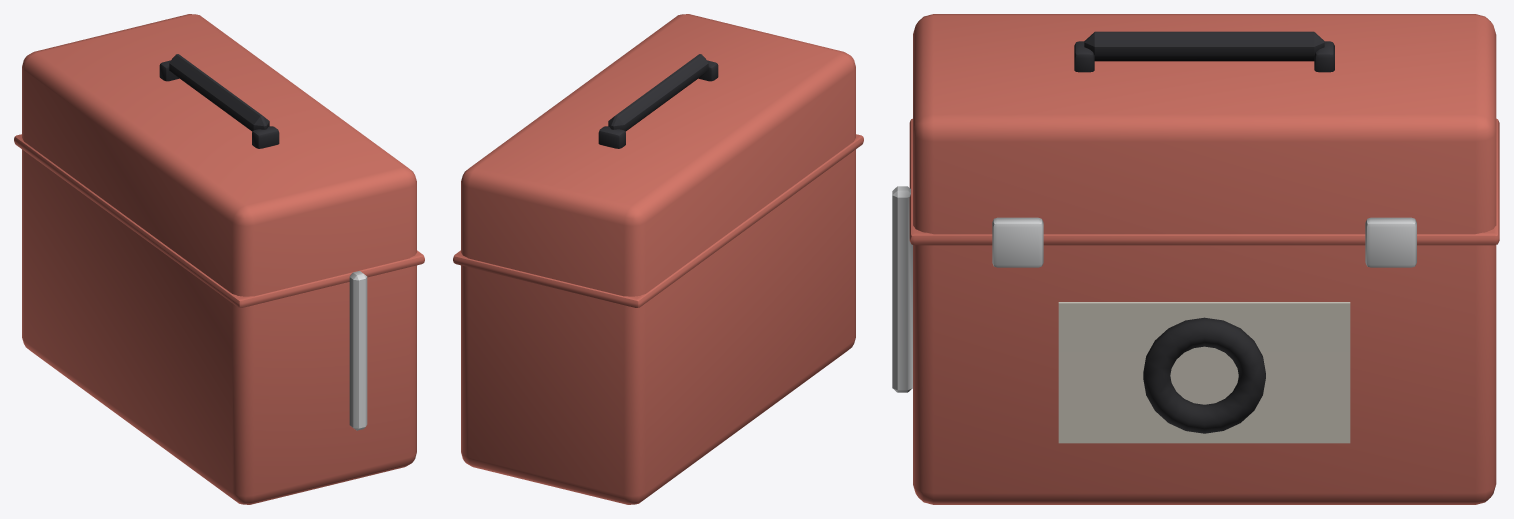
The model's file is nd_tire_kit.glb.
3 renders of one model, left to right at view 1: azimuth 30°, elevation 25°; view 2: azimuth 150°, elevation 25°; view 3: azimuth 270°, elevation 25°, orthographic. The views are drawn at different scales.
Visible parts, largest first — view 1: PART; view 2: PART; view 3: PART.
Boxes of the visible parts, x1,y1,x2,y2 form: PART: (14,14,424,504); PART: (453,14,863,504); PART: (892,14,1499,504).
Bounding box in the file's own units: 0.175 × 0.271 × 0.354.
